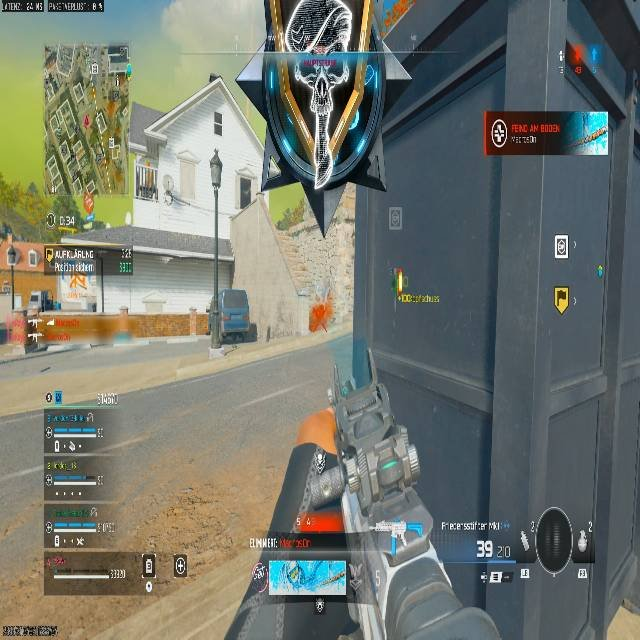head: (257, 0, 389, 189), (339, 382, 393, 419)
player: (24, 289, 56, 322), (310, 301, 328, 333)
